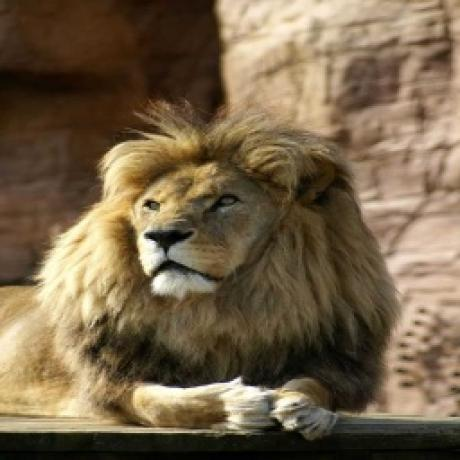Lion: (0, 105, 399, 441)
